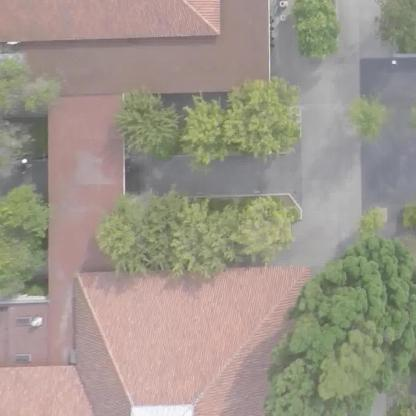Pedestrian: (16, 155, 37, 178)
